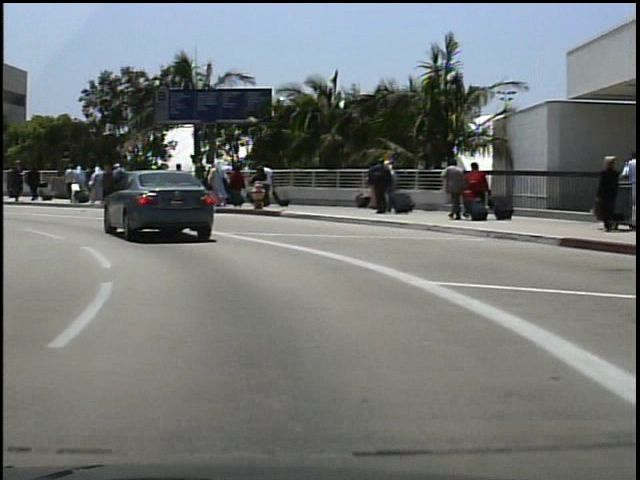person: (590, 152, 621, 232), (439, 157, 467, 224), (618, 148, 640, 230), (363, 157, 392, 217), (460, 159, 485, 219), (22, 162, 46, 207), (9, 157, 28, 202), (259, 159, 276, 199), (7, 164, 24, 202)
